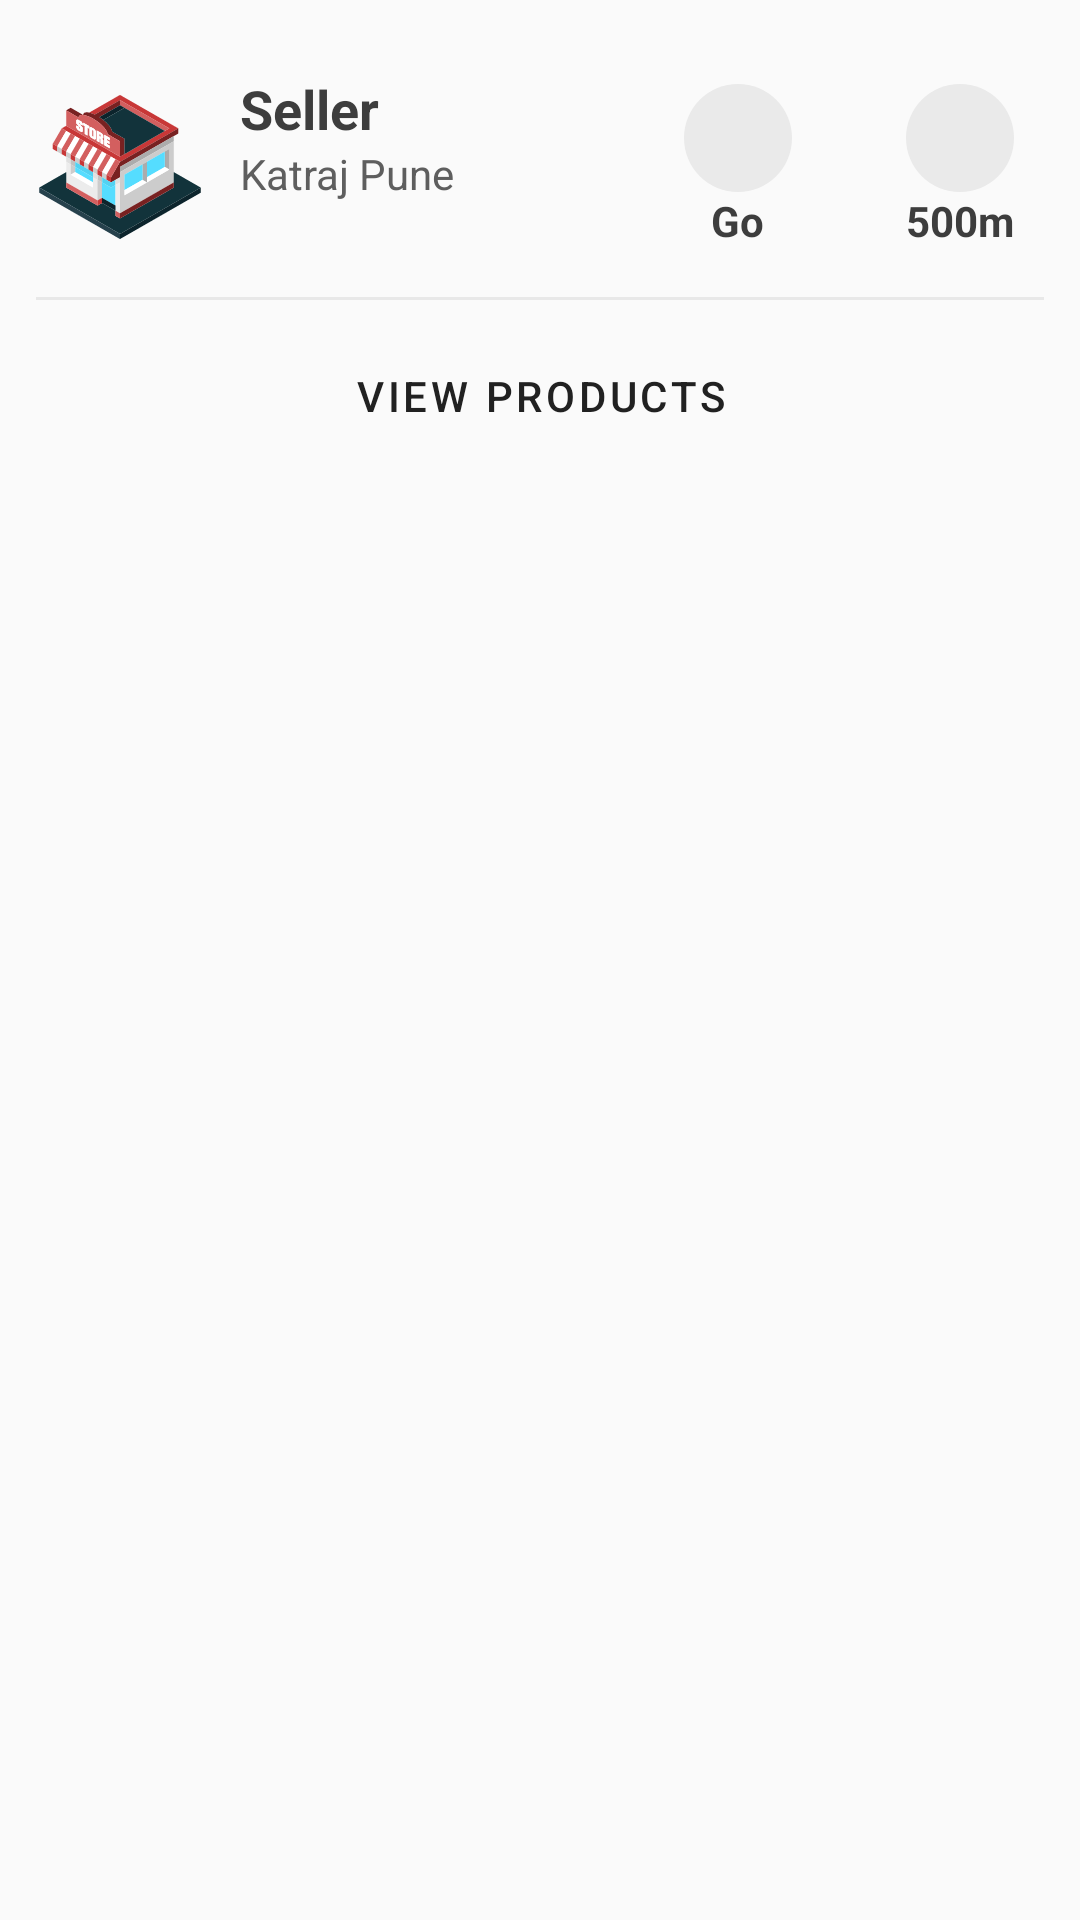

Screen size 1080w x 1920h. Icon name, then its center in pixels as (x,y):
simple isometric store: (120,167)
